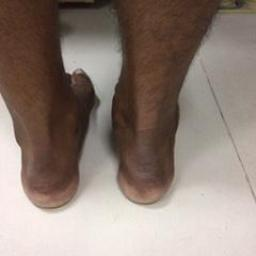Back View -Both Feet-: (3, 51, 202, 217)
